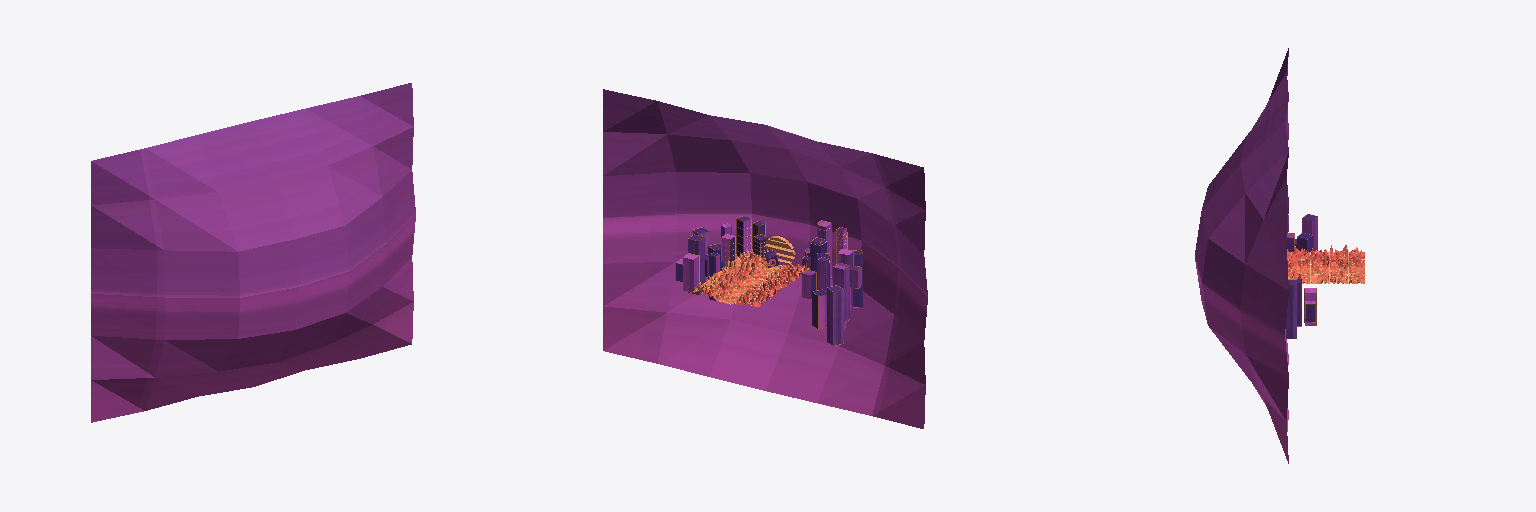
3 renders of one model, left to right at view 1: azimuth 30°, elevation 25°; view 2: azimuth 150°, elevation 25°; view 3: azimuth 270°, elevation 25°, orthographic.
Visible parts, largest first — view 1: Circle; view 2: Circle, Cube.000_Cube.029, Plane, Cube.002_Cube.031, Plane.001_Plane.002; view 3: Circle, Plane, Cube.000_Cube.029.
Part boxes in pixels (x1,y1,x2,y2): Circle: (91,83,415,422); Circle: (603,89,927,428); Cube.000_Cube.029: (676,216,862,345); Plane: (693,248,809,306); Cube.002_Cube.031: (675,216,862,345); Plane.001_Plane.002: (695,251,808,305); Circle: (1195,48,1288,463); Plane: (1287,245,1364,283); Cube.000_Cube.029: (1286,214,1317,338).
Bounding box in the file's own units: 1057 × 827 × 481.
1 materials, 1 textured.